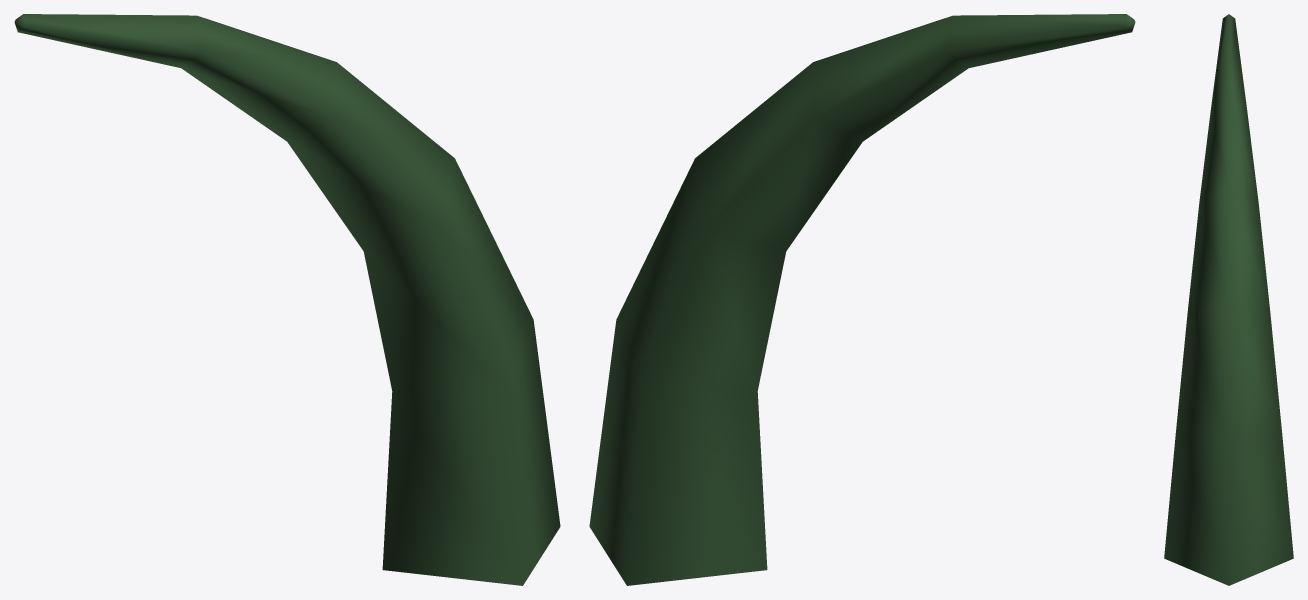
Rendered from grass-blade-2.fbx.
3 views of the same model, side by side, from view 1: azimuth 30°, elevation 25°; view 2: azimuth 150°, elevation 25°; view 3: azimuth 270°, elevation 25° (orthographic). The views are drawn at different scales.
Parts seen in each view (by area): view 1: Cylinder; view 2: Cylinder; view 3: Cylinder.
Part boxes in pixels (<box>): Cylinder: <box>14,14,560,585</box>; Cylinder: <box>589,14,1135,585</box>; Cylinder: <box>1164,14,1293,585</box>.
Size of the model in its own units: 24.55 by 27.66 by 8.
